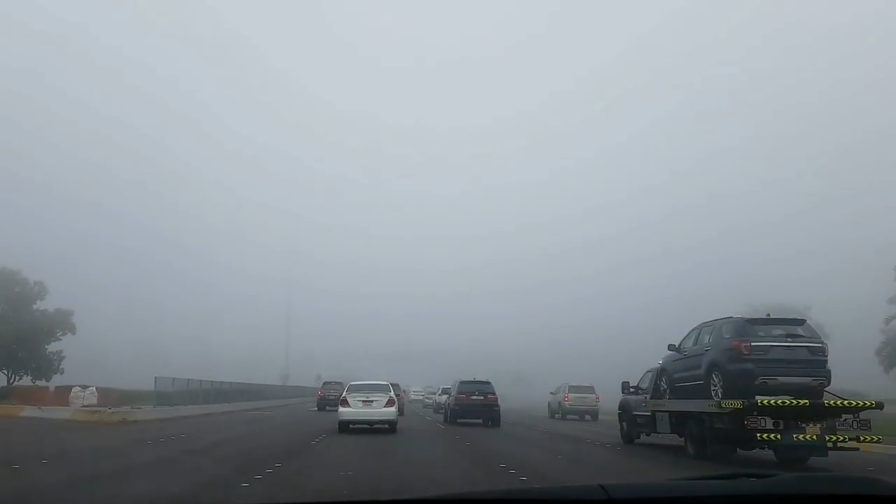car: (655, 311, 832, 402), (336, 380, 402, 432), (442, 377, 502, 427), (546, 382, 600, 422), (369, 380, 406, 417), (315, 380, 348, 411), (431, 385, 466, 412), (422, 389, 443, 408), (407, 388, 425, 402)
